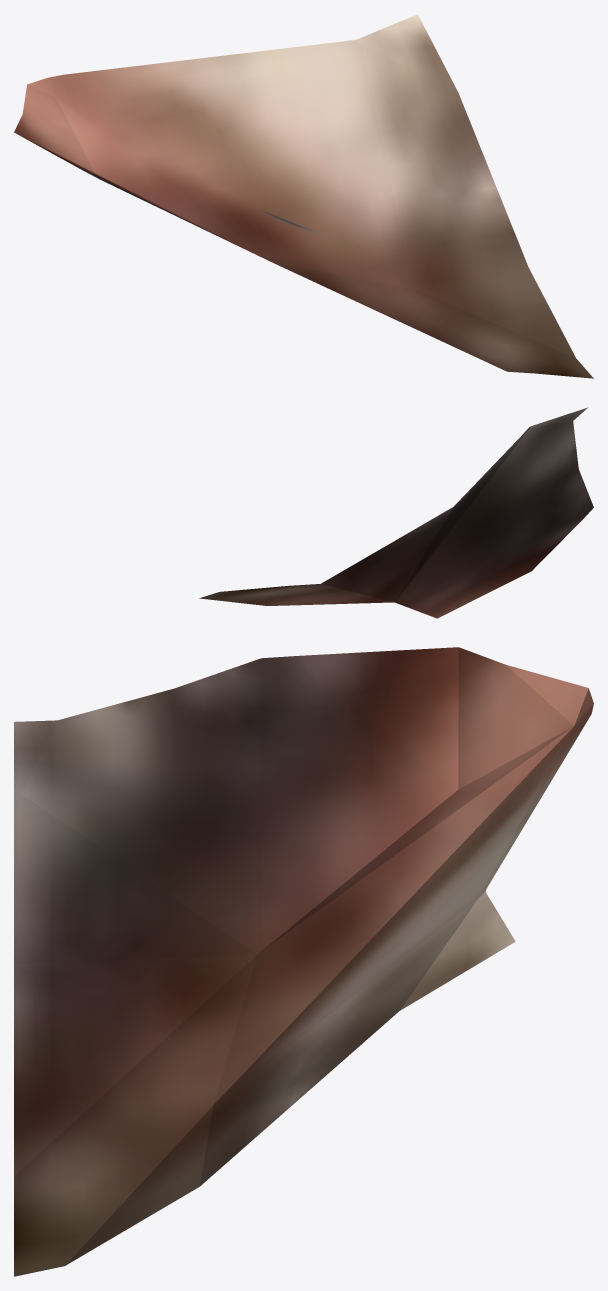
3 views of the same model, one above another, from view 1: azimuth 30°, elevation 25°; view 2: azimuth 150°, elevation 25°; view 3: azimuth 270°, elevation 25° (orthographic). The views are drawn at different scales.
Size of the model in its own units: 0.128 by 0.0679 by 0.1065.
1 material, 1 textured.
